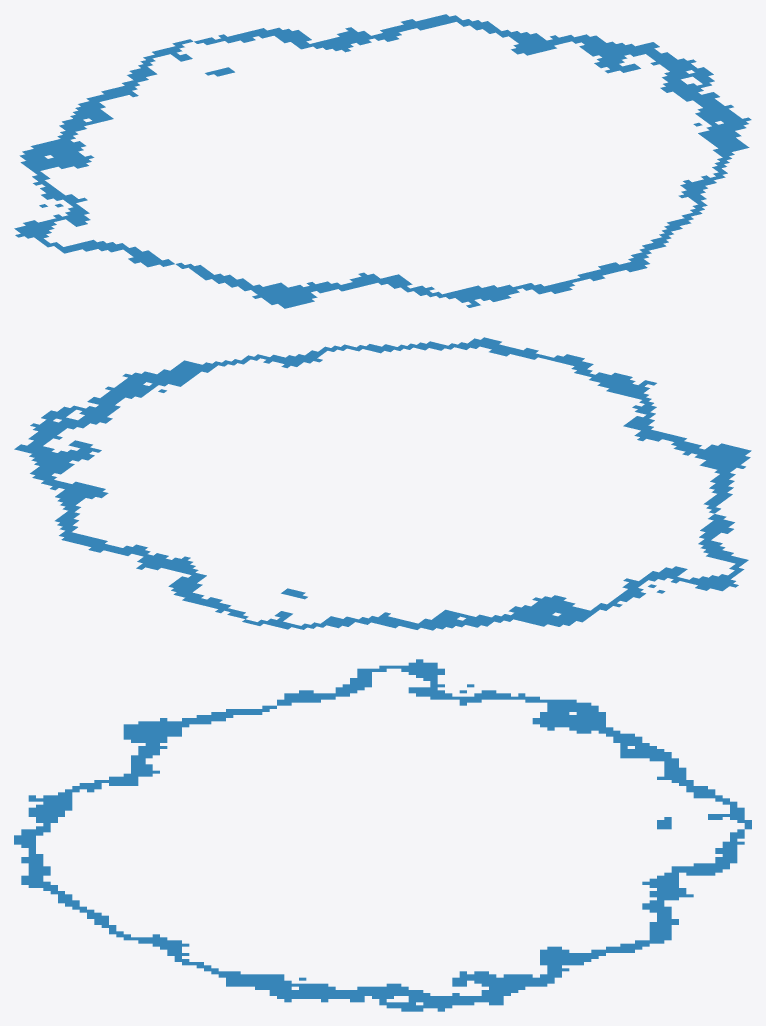
The model's file is Isl-flat6-PlaceForWaterObjects.fbx.
3 renders of one model, top to bottom at view 1: azimuth 30°, elevation 25°; view 2: azimuth 150°, elevation 25°; view 3: azimuth 270°, elevation 25°, orthographic. The views are drawn at different scales.
Visible parts, largest first — view 1: Isl-flat6-PlaceForWaterObjects; view 2: Isl-flat6-PlaceForWaterObjects; view 3: Isl-flat6-PlaceForWaterObjects.
Boxes of the visible parts, x1,y1,x2,y2 form: Isl-flat6-PlaceForWaterObjects: [14, 14, 751, 308]; Isl-flat6-PlaceForWaterObjects: [14, 337, 751, 630]; Isl-flat6-PlaceForWaterObjects: [14, 659, 751, 1011].
Size of the model in its own units: 114 by 0 by 101.
